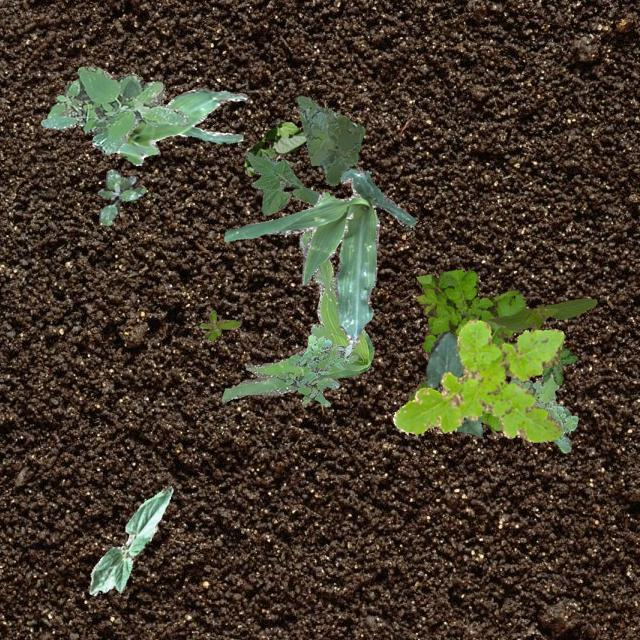crop: (223, 168, 414, 344), (76, 80, 246, 164), (88, 484, 172, 594), (424, 330, 482, 436), (243, 152, 320, 214), (486, 296, 596, 330), (242, 120, 306, 174)
weed: (220, 228, 374, 402), (392, 318, 564, 442), (406, 268, 524, 430), (40, 65, 186, 154), (296, 94, 364, 184), (276, 334, 358, 406), (509, 372, 577, 452), (96, 168, 144, 225), (198, 308, 240, 339), (542, 346, 576, 384)
